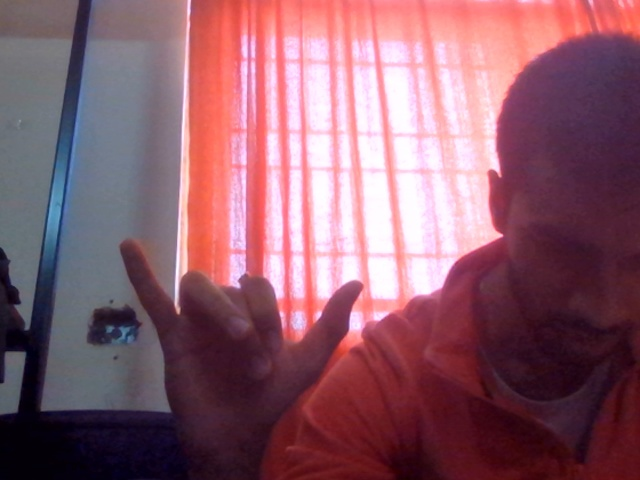Y: (103, 215, 400, 470)
